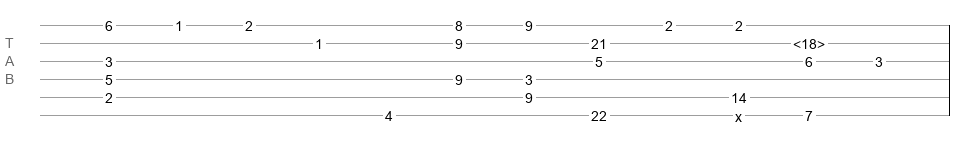1: (175, 18, 183, 28), (315, 36, 323, 46)
14: (731, 90, 747, 100)
2: (105, 90, 113, 100), (245, 18, 253, 28), (665, 18, 673, 28), (735, 18, 743, 28)
21: (591, 36, 607, 46)
22: (591, 108, 607, 118)
3: (105, 54, 113, 64), (525, 72, 533, 82), (875, 54, 883, 64)
4: (385, 108, 393, 118)
5: (105, 72, 113, 82), (595, 54, 603, 64)
6: (105, 18, 113, 28), (805, 54, 813, 64)
7: (805, 108, 813, 118)
8: (455, 18, 463, 28)
9: (455, 72, 463, 82), (455, 36, 463, 46), (525, 18, 533, 28), (525, 90, 533, 100)
harmonic: (793, 36, 825, 46)
x: (735, 109, 742, 117)
